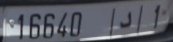0: (69, 11, 84, 38)
1: (152, 4, 162, 31), (16, 12, 24, 41)
4: (56, 10, 68, 38)
6: (28, 12, 42, 39), (43, 12, 55, 39)
d: (119, 8, 133, 30)
